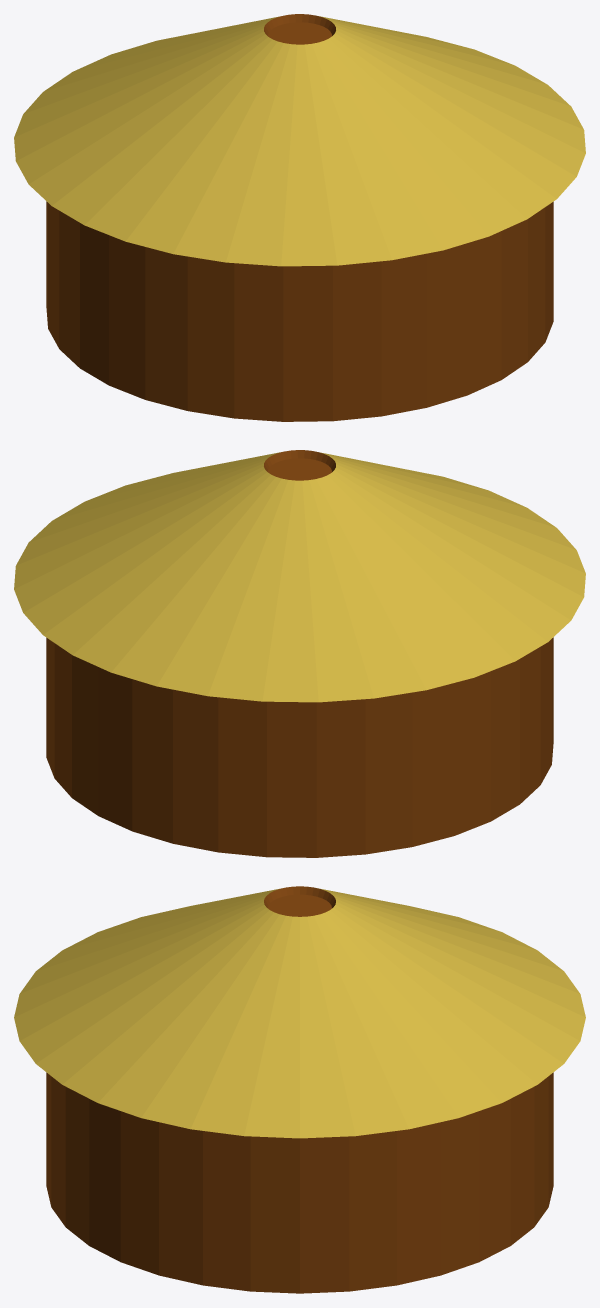
The picture shows the model from 3 angles, top to bottom: view 1: azimuth 30°, elevation 25°; view 2: azimuth 150°, elevation 25°; view 3: azimuth 270°, elevation 25°; orthographic projection.
Visible parts, largest first — view 1: Cylinder; view 2: Cylinder; view 3: Cylinder.
Boxes of the visible parts, <box> form: Cylinder: <box>14,14,585,421</box>; Cylinder: <box>14,450,585,857</box>; Cylinder: <box>14,886,585,1293</box>.
Bounding box in the file's own units: 631 × 347 × 631.
